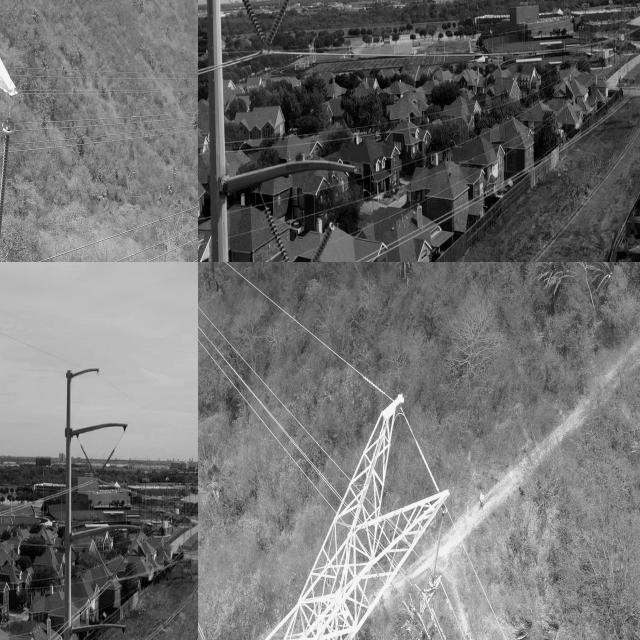杆塔: (198, 376, 459, 640)
正常绝缘子: (258, 192, 294, 262), (0, 107, 16, 262), (429, 496, 446, 619), (306, 211, 342, 262), (261, 0, 293, 57), (240, 0, 270, 53), (93, 542, 114, 583), (107, 548, 132, 580), (79, 442, 99, 480), (94, 447, 116, 481)
